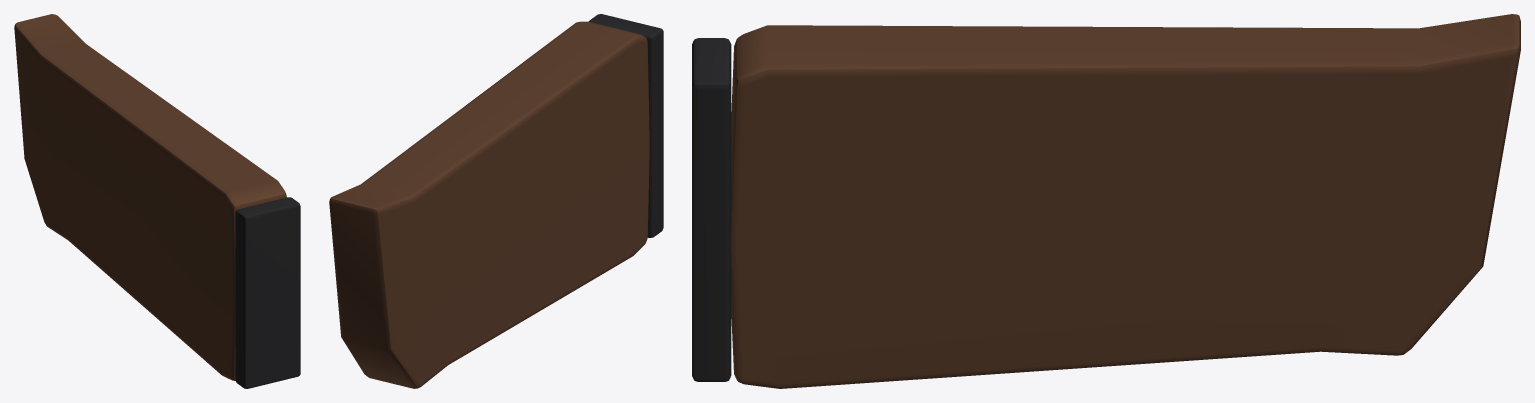
File: mod_shrike_trapper_stock.glb
3 renders of one model, left to right at view 1: azimuth 30°, elevation 25°; view 2: azimuth 150°, elevation 25°; view 3: azimuth 270°, elevation 25°, orthographic. The views are drawn at different scales.
Visible parts, largest first — view 1: Stock, StockPad; view 2: Stock, StockPad; view 3: Stock, StockPad.
Part boxes in pixels (<box>): Stock: <box>14,14,286,380</box>; StockPad: <box>235,197,300,388</box>; Stock: <box>329,21,649,388</box>; StockPad: <box>589,14,663,237</box>; Stock: <box>730,14,1520,388</box>; StockPad: <box>692,38,731,381</box>.
Size of the model in its own units: 0.035 by 0.1154 by 0.2545.
